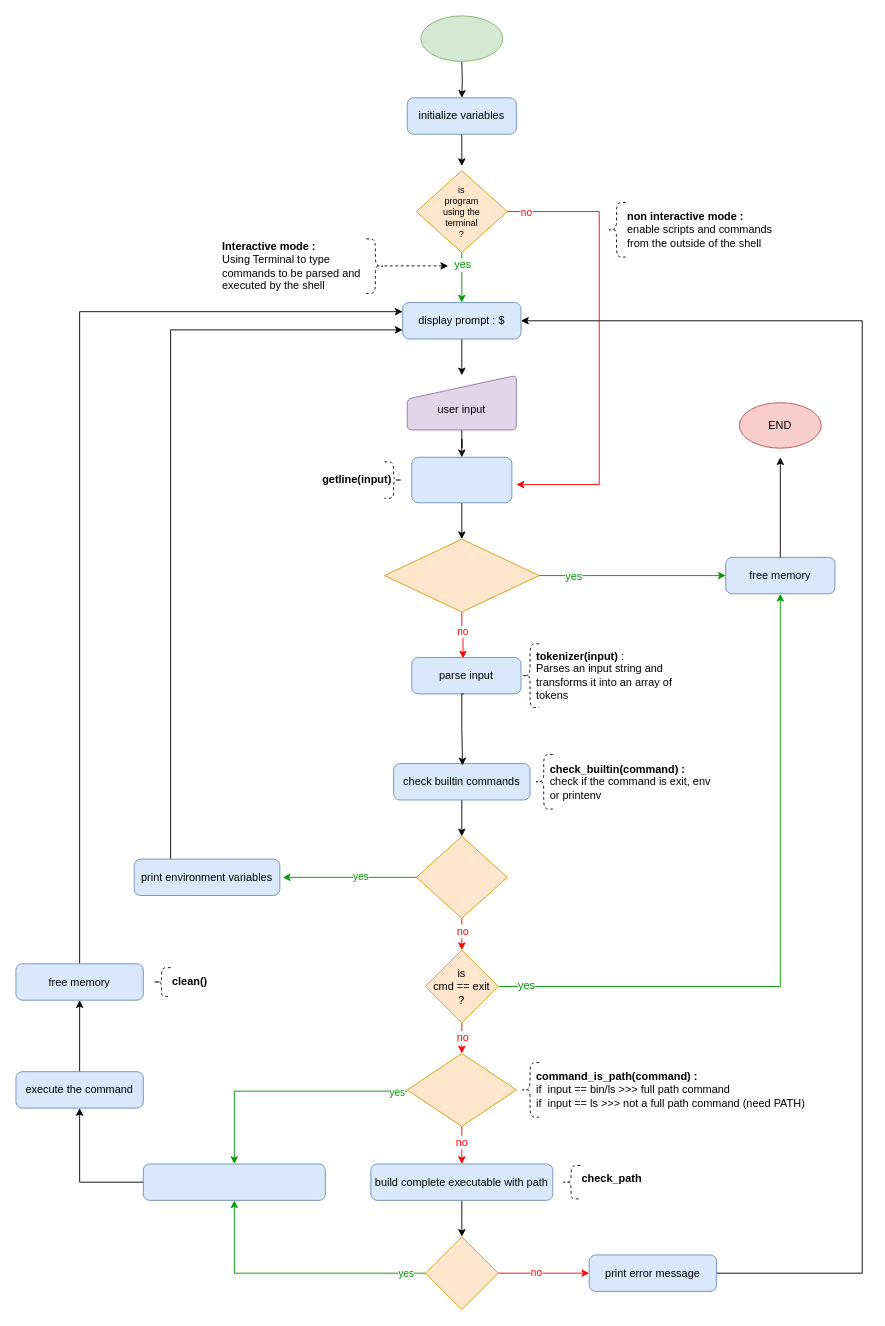
Image size: 885x1326. Some labels were removed from this diagram. The centre of each missing label's shape, as x and y in pixels:
"is cmd == env or printenv ?" belongs at pixel 461 876.
"is cmd in PATH ?" belongs at pixel 461 1273.
"is EOF reached (Ctrl + D) ?" belongs at pixel 461 575.
"is user input a full path cmd ?" belongs at pixel 461 1089.
"new child process with fork" belongs at pixel 233 1181.
"Read input" belongs at pixel 461 479.
"START" belongs at pixel 461 38.
